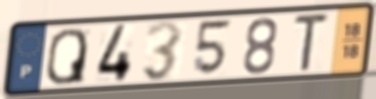3: (140, 19, 188, 84)
4: (94, 23, 134, 85)
5: (191, 19, 234, 79)
8: (242, 15, 279, 76)
Q: (44, 26, 89, 87)
T: (292, 12, 331, 75)
